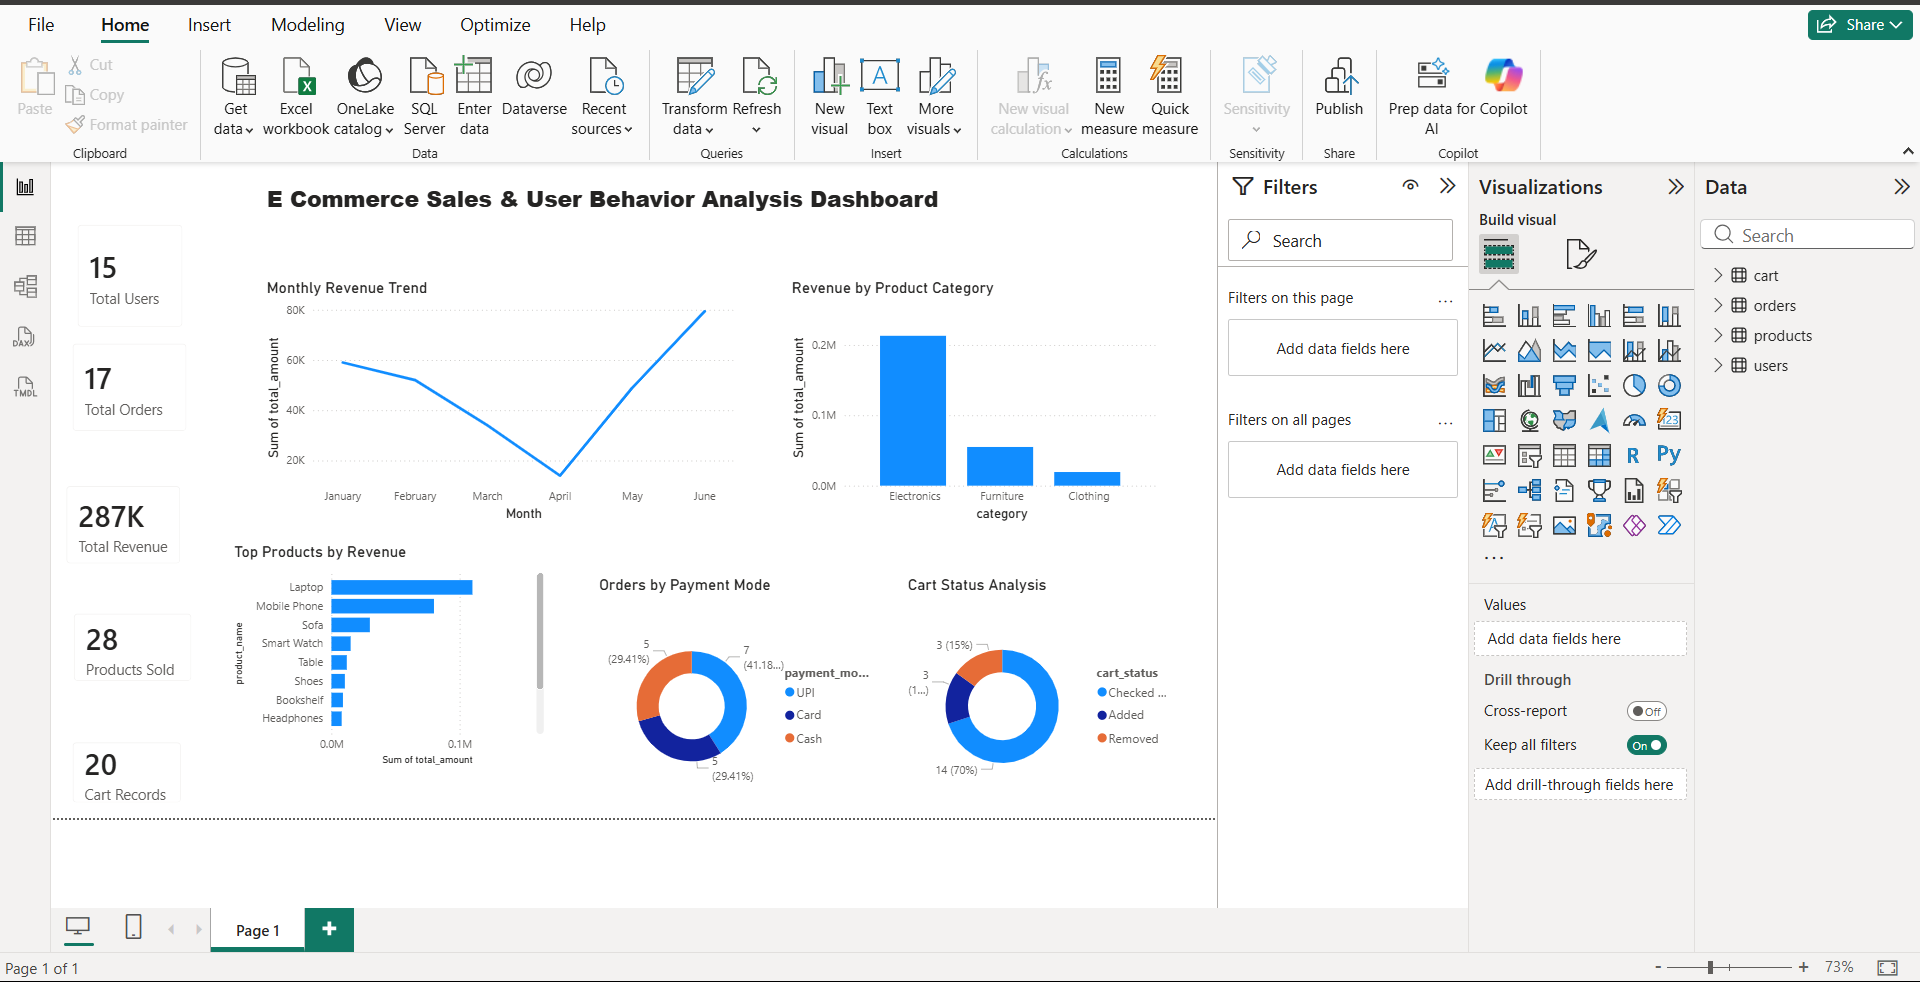

The dashboard page shown, as its layout file describes it:
{"tool":"powerbi","page":{"name":"Page 1","canvas":[1280,720],"ordinal":0},"visuals":[{"type":"cardVisual","fields":{"Data":["cart.Cart Records"]},"box":[6.9,620.2,153.7,100.2],"z":0},{"type":"cardVisual","fields":{"Data":["cart.Total Users"]},"box":[12.3,52.1,149.6,146.8],"z":1000},{"type":"cardVisual","fields":{"Data":["cart.Total Orders"]},"box":[6.9,182.5,159.2,130.4],"z":2000},{"type":"cardVisual","fields":{"Data":["cart.Total Revenue"]},"box":[0,338.9,159.2,119.4],"z":3000},{"type":"cardVisual","fields":{"Data":["cart.Products Sold"]},"box":[8.2,478.9,163.3,108.4],"z":4000},{"type":"lineChart","title":"Monthly Revenue Trend","fields":{"Category":["orders.order_date.Variation.Date Hierarchy.Month"],"Y":["Sum(orders.total_amount)"]},"box":[231.9,127.6,522.8,271.7],"z":5000},{"type":"clusteredColumnChart","title":"Revenue by Product Category","fields":{"Category":["products.category"],"Y":["Sum(orders.total_amount)"]},"box":[808.2,127.6,413,271.7],"z":6000},{"type":"clusteredBarChart","title":"Top Products by Revenue","fields":{"Category":["products.product_name"],"Y":["Sum(orders.total_amount)"]},"box":[196.2,417.2,349.9,249.7],"z":7000},{"type":"donutChart","title":"Orders by Payment Mode","fields":{"Category":["orders.payment_mode"],"Y":["CountNonNull(orders.order_id)"]},"box":[596.9,454.2,314.2,266.2],"z":8000},{"type":"donutChart","title":"Cart Status Analysis","fields":{"Category":["cart.cart_status"],"Y":["CountNonNull(cart.cart_id)"]},"box":[935.9,454.2,306,266.2],"z":9000},{"type":"textbox","box":[231.9,17.8,911.2,70],"z":10000}]}

Visuals, with their boxes on the page's 1280x720 design canvas (x1, y1, x2, y2). These are canvas units, not pixel positions in the 1920x982 screenshot, which may show the page scaled, cropped or inside an application window:
cardVisual - cart.Cart Records: x1=7, y1=620, x2=161, y2=720
cardVisual - cart.Total Users: x1=12, y1=52, x2=162, y2=199
cardVisual - cart.Total Orders: x1=7, y1=182, x2=166, y2=313
cardVisual - cart.Total Revenue: x1=0, y1=339, x2=159, y2=458
cardVisual - cart.Products Sold: x1=8, y1=479, x2=172, y2=587
"Monthly Revenue Trend" lineChart: x1=232, y1=128, x2=755, y2=399
"Revenue by Product Category" clusteredColumnChart: x1=808, y1=128, x2=1221, y2=399
"Top Products by Revenue" clusteredBarChart: x1=196, y1=417, x2=546, y2=667
"Orders by Payment Mode" donutChart: x1=597, y1=454, x2=911, y2=720
"Cart Status Analysis" donutChart: x1=936, y1=454, x2=1242, y2=720
textbox: x1=232, y1=18, x2=1143, y2=88
